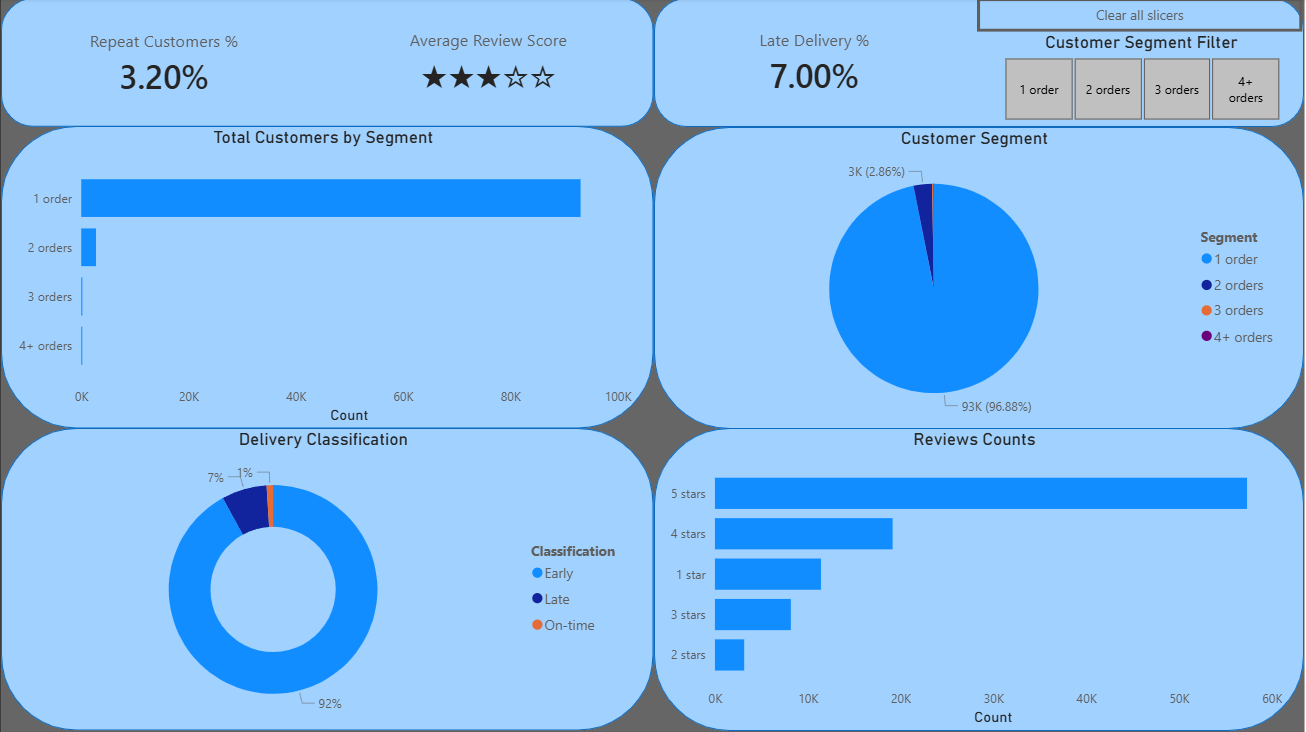

The page's visual inventory and layout, read from the dashboard file:
{"tool":"powerbi","page":{"name":"Retension & Operational Performance","canvas":[1280,720],"ordinal":1},"visuals":[{"type":"group","id":"g1","title":"Backround","box":[0,0,1280,720.1],"z":0},{"type":"shape","box":[0,0,641,126.6],"z":0,"group":"g1"},{"type":"cardVisual","fields":{"Data":["public vw_review_score_distribution.Average of review_score star rating"]},"box":[319.6,0,319.6,126.6],"z":1000},{"type":"shape","box":[641.5,0,638.5,126.7],"z":1000,"group":"g1"},{"type":"cardVisual","fields":{"Data":["Sum(public vw_delivery_classification.fixed_percentage)"]},"box":[639.2,0,319.6,126.6],"z":2000},{"type":"shape","box":[0,125.7,641,297.2],"z":2000,"group":"g1"},{"type":"slicer","title":"Customer Segment Filter","fields":{"Values":["public vw_repeat_customer_segments.customer_segment"]},"box":[961,33.1,319,93.4],"z":3000},{"type":"shape","box":[641.5,126.7,638.5,296.7],"z":3000,"group":"g1"},{"type":"barChart","title":"Total Customers by Segment","fields":{"Category":["public vw_repeat_customer_segments.customer_segment"],"Y":["Sum(public vw_repeat_customer_segments.number_of_customers)"]},"box":[9,126.6,615.9,296.3],"z":4000},{"type":"shape","box":[0,422.8,641,297.2],"z":4000,"group":"g1"},{"type":"shape","box":[641.5,422.4,638.5,297.7],"z":5000,"group":"g1"},{"type":"donutChart","title":"Delivery Classification","fields":{"Category":["public vw_delivery_classification.order_classification"],"Y":["Sum(public vw_delivery_classification.fixed_percentage)"]},"box":[9,423.7,615.9,296.3],"z":5000},{"type":"actionButton","box":[958.8,0,319.6,33.2],"z":6000},{"type":"cardVisual","fields":{"Data":["Sum(public vw_repeat_customer_segments.percentage_of_customers)"]},"box":[0,1,320,126.4],"z":7000},{"type":"pieChart","title":"Customer Segment","fields":{"Category":["public vw_repeat_customer_segments.customer_segment"],"Y":["Sum(public vw_repeat_customer_segments.number_of_customers)"]},"box":[649.1,127.5,614.1,296.3],"z":8000},{"type":"barChart","title":"Reviews Counts","fields":{"Category":["public vw_review_score_distribution.score_label"],"Y":["Sum(public vw_review_score_distribution.number_of_reviews)"]},"box":[649.1,423.7,614.1,296.3],"z":9000}]}

Visuals, with their boxes in screenshot pixels (x1, y1, x2, y2), scaled from the page's 1280x720 canvas onto the 1306x732 screenshot:
"Backround" group: (x1=0, y1=0, x2=1305, y2=731)
shape: (x1=0, y1=0, x2=654, y2=129)
cardVisual - public vw_review_score_distribution.Average of review_score star rating: (x1=326, y1=0, x2=652, y2=129)
shape: (x1=655, y1=0, x2=1305, y2=129)
cardVisual - Sum(public vw_delivery_classification.fixed_percentage): (x1=652, y1=0, x2=978, y2=129)
shape: (x1=0, y1=128, x2=654, y2=430)
"Customer Segment Filter" slicer: (x1=981, y1=34, x2=1305, y2=129)
shape: (x1=655, y1=129, x2=1305, y2=430)
"Total Customers by Segment" barChart: (x1=9, y1=129, x2=638, y2=430)
shape: (x1=0, y1=430, x2=654, y2=731)
shape: (x1=655, y1=429, x2=1305, y2=731)
"Delivery Classification" donutChart: (x1=9, y1=431, x2=638, y2=731)
actionButton: (x1=978, y1=0, x2=1304, y2=34)
cardVisual - Sum(public vw_repeat_customer_segments.percentage_of_customers): (x1=0, y1=1, x2=326, y2=130)
"Customer Segment" pieChart: (x1=662, y1=130, x2=1289, y2=431)
"Reviews Counts" barChart: (x1=662, y1=431, x2=1289, y2=731)
